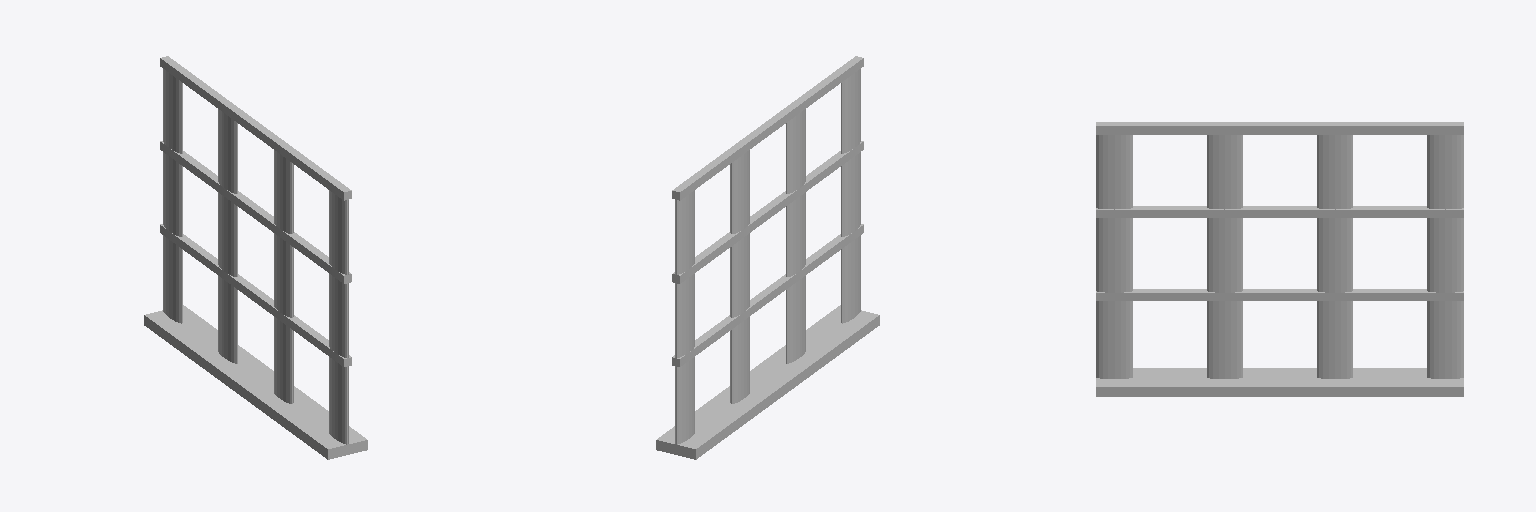
File: BarandalRecto.obj
3 renders of one model, left to right at view 1: azimuth 30°, elevation 25°; view 2: azimuth 150°, elevation 25°; view 3: azimuth 270°, elevation 25°, orthographic.
Parts seen in each view (by area): view 1: BarandalRecto; view 2: BarandalRecto; view 3: BarandalRecto.
Part boxes in pixels (bbox=[...]): BarandalRecto: bbox=[144, 56, 367, 459]; BarandalRecto: bbox=[656, 56, 879, 459]; BarandalRecto: bbox=[1096, 122, 1463, 396].
Size of the model in its own units: 2.5 by 15.81 by 20.